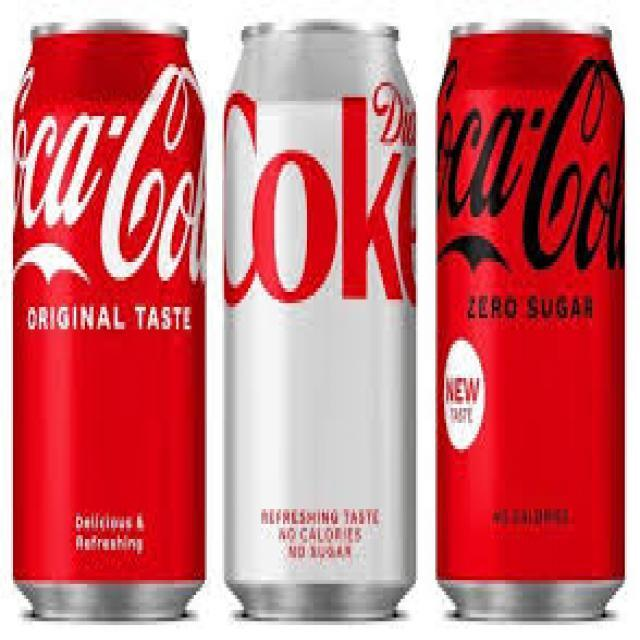coca-cola: (10, 17, 210, 623), (436, 20, 628, 624)
